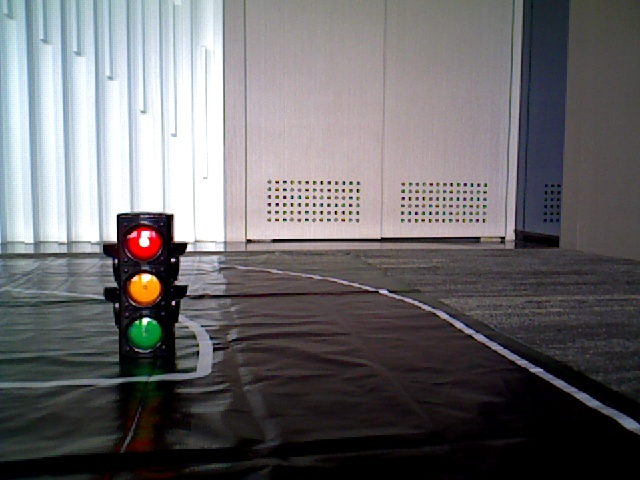red: (117, 217, 169, 362)
